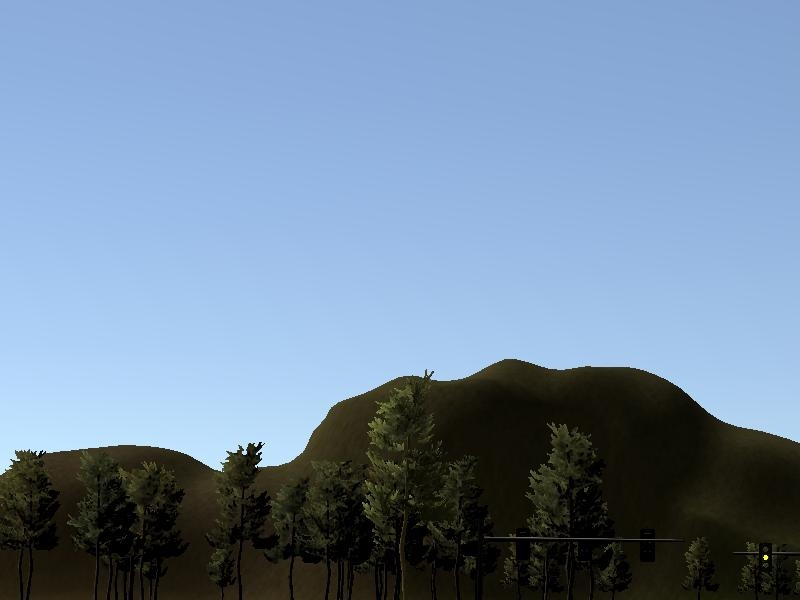YELLOW: (755, 539, 774, 573)
